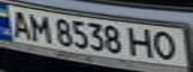3: (84, 20, 106, 53)
5: (69, 18, 90, 50)
8: (103, 22, 127, 55), (51, 16, 72, 47)
A: (6, 8, 33, 39)
H: (127, 25, 157, 58)
M: (24, 11, 54, 43)
O: (148, 29, 184, 61)
